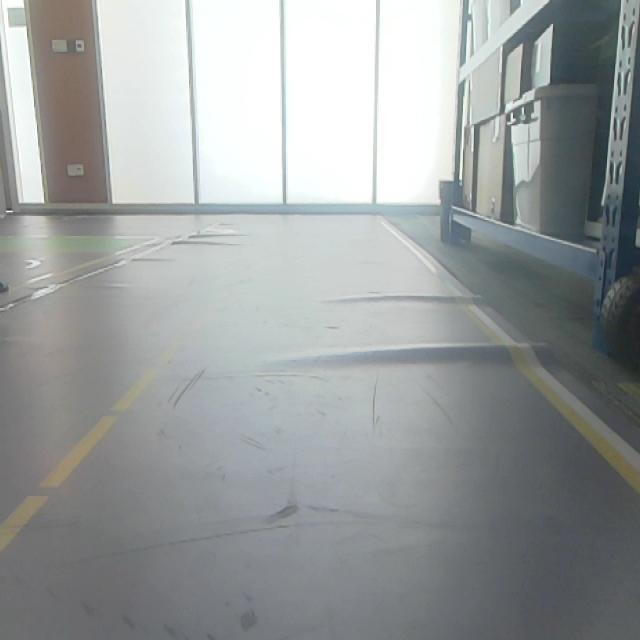left_lane: (0, 328, 192, 550)
right_lane: (378, 218, 640, 490)
